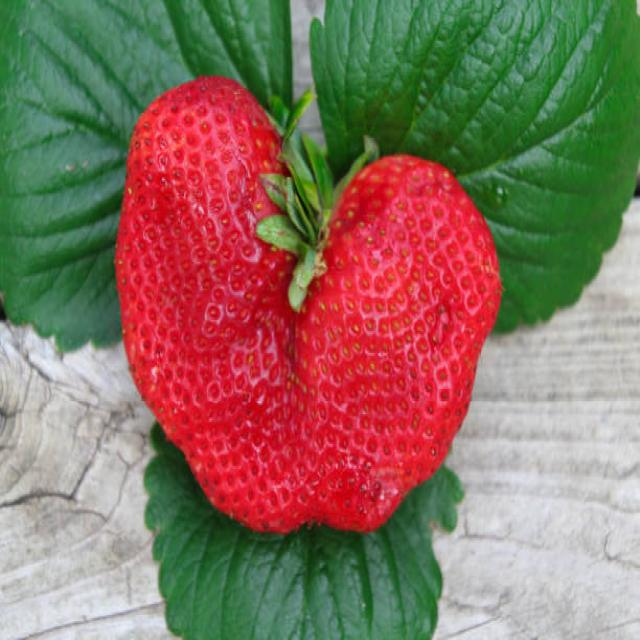Healthy Fruit: (116, 75, 501, 533)
